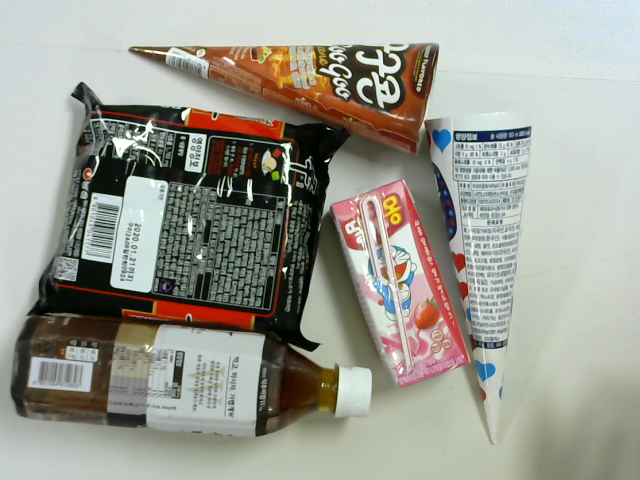Bravo_Cone_(Banila)_CVS: (421, 107, 542, 450)
GooGoo_Cone_CVS: (128, 32, 444, 156)
Post-meal_recipe_W_tea_500ml: (6, 315, 376, 448)
Sinramen_Black: (46, 93, 324, 343)
Strawberry_E_Mong: (330, 182, 467, 387)
